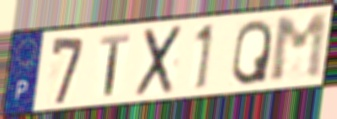1: (192, 22, 216, 92)
7: (51, 35, 85, 106)
M: (269, 10, 330, 86)
Q: (229, 17, 275, 88)
T: (98, 32, 132, 98)
X: (132, 23, 185, 100)
